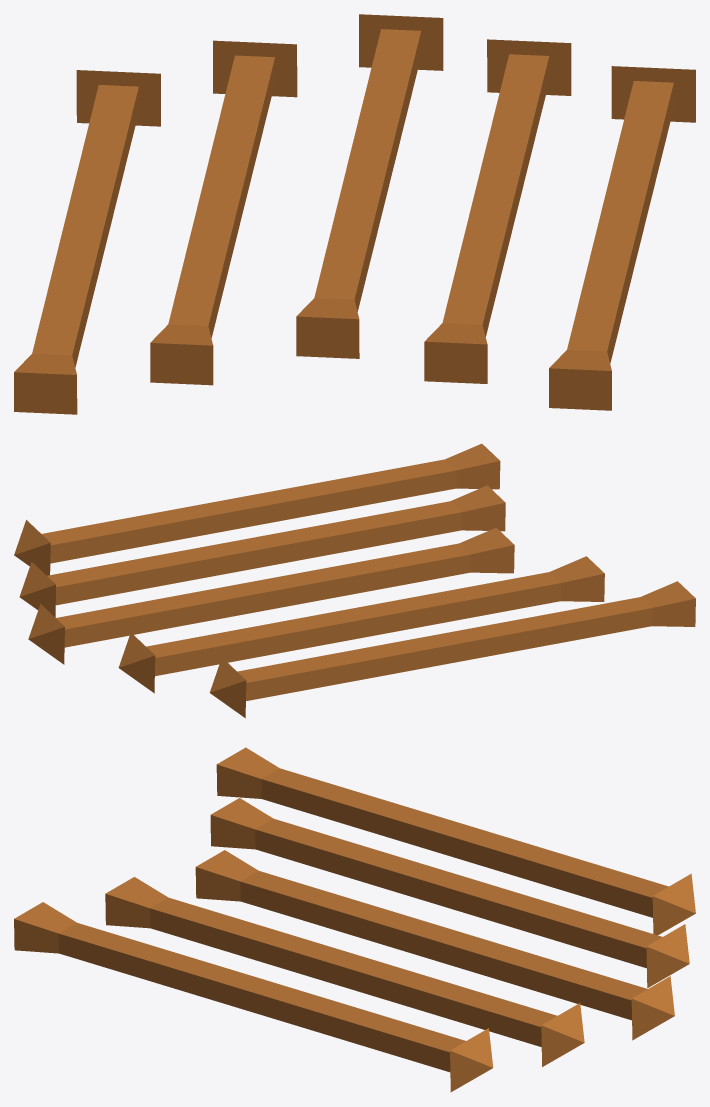
The model's file is copper_bolts.glb.
3 views of the same model, one above another, from view 1: azimuth 30°, elevation 25°; view 2: azimuth 150°, elevation 25°; view 3: azimuth 270°, elevation 25° (orthographic). The views are drawn at different scales.
Visible parts, largest first — view 1: copper_bolts; view 2: copper_bolts; view 3: copper_bolts.
Boxes of the visible parts, x1,y1,x2,y2 form: copper_bolts: [14, 14, 695, 414]; copper_bolts: [14, 443, 695, 718]; copper_bolts: [14, 747, 695, 1092].
Bounding box in the file's own units: 0.1536 × 0.00964 × 0.1428.
